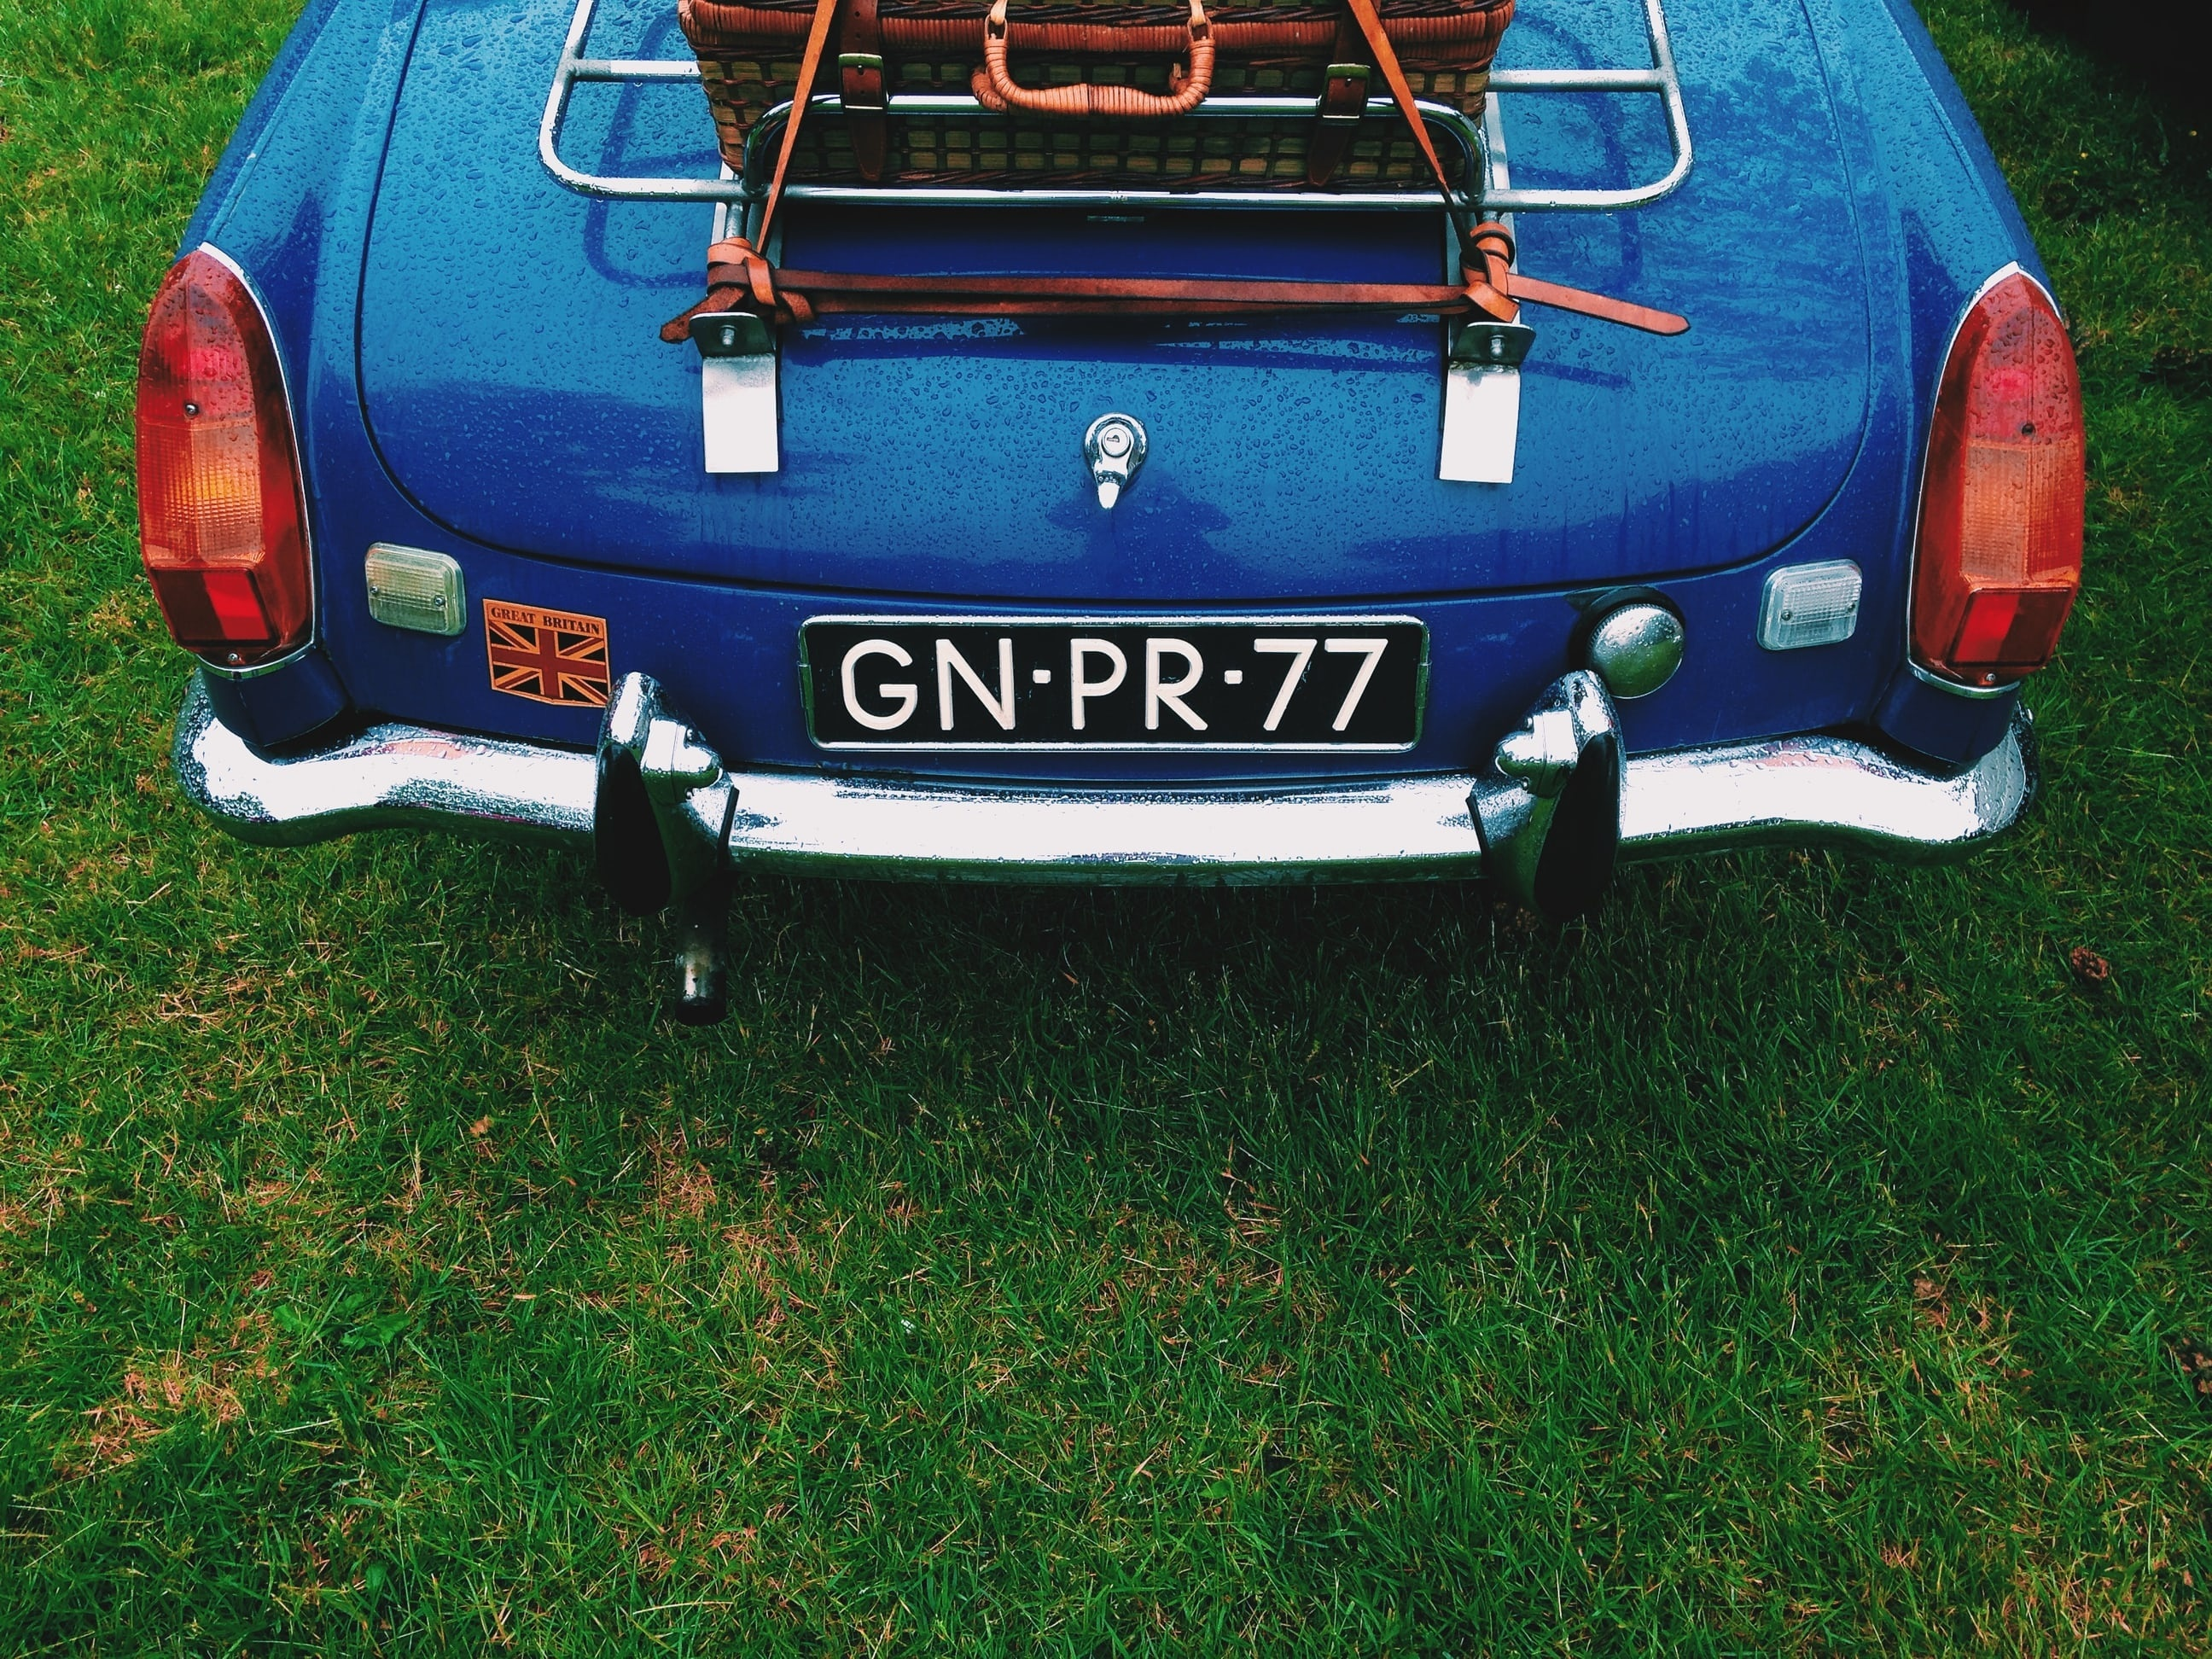plaka: (800, 609, 1428, 758)
